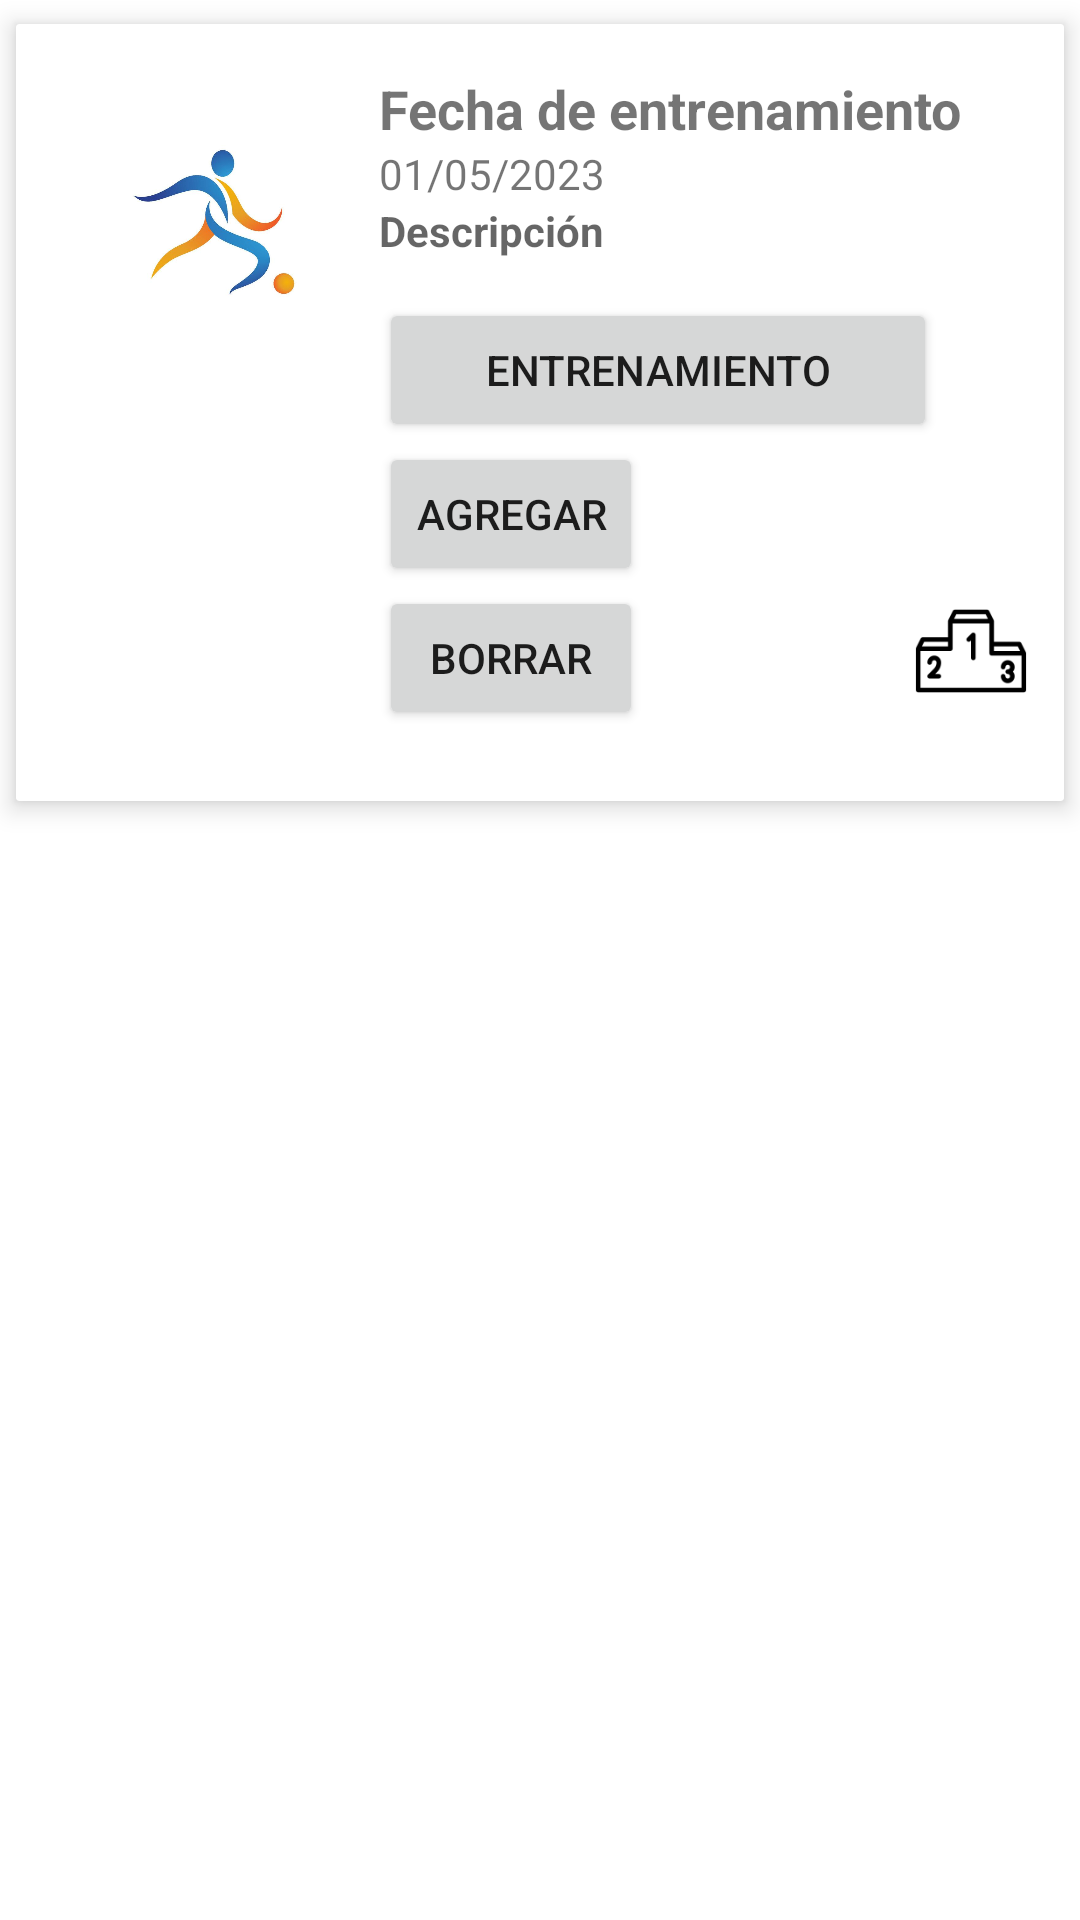

Where icons sit on this 1080×1920 app screen, as (x1, y1, x2, y2):
podium: (916, 609, 1026, 693)
